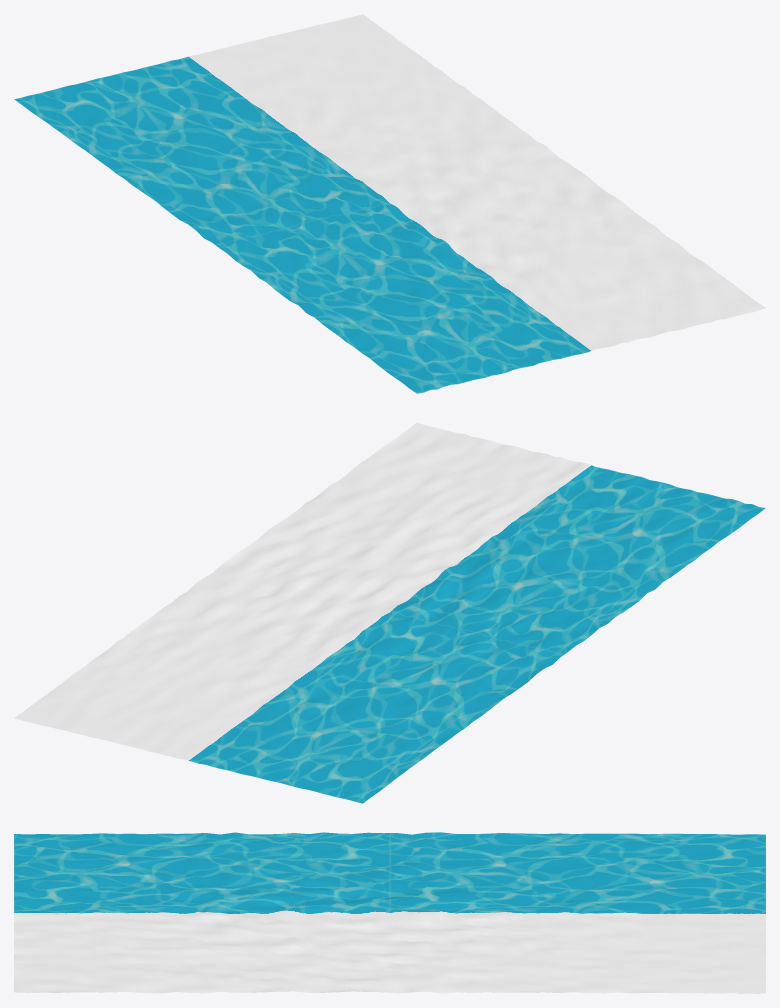
File: water.fbx
The picture shows the model from 3 angles, top to bottom: view 1: azimuth 30°, elevation 25°; view 2: azimuth 150°, elevation 25°; view 3: azimuth 270°, elevation 25°; orthographic projection. The views are drawn at different scales.
Visible parts, largest first — view 1: Plane; view 2: Plane; view 3: Plane.
Part boxes in pixels (left/top/right/bottom): Plane: left=14, top=14, right=765, bottom=393; Plane: left=14, top=422, right=765, bottom=803; Plane: left=14, top=832, right=765, bottom=993.
Size of the model in its own units: 200 by 2.3 by 400.
